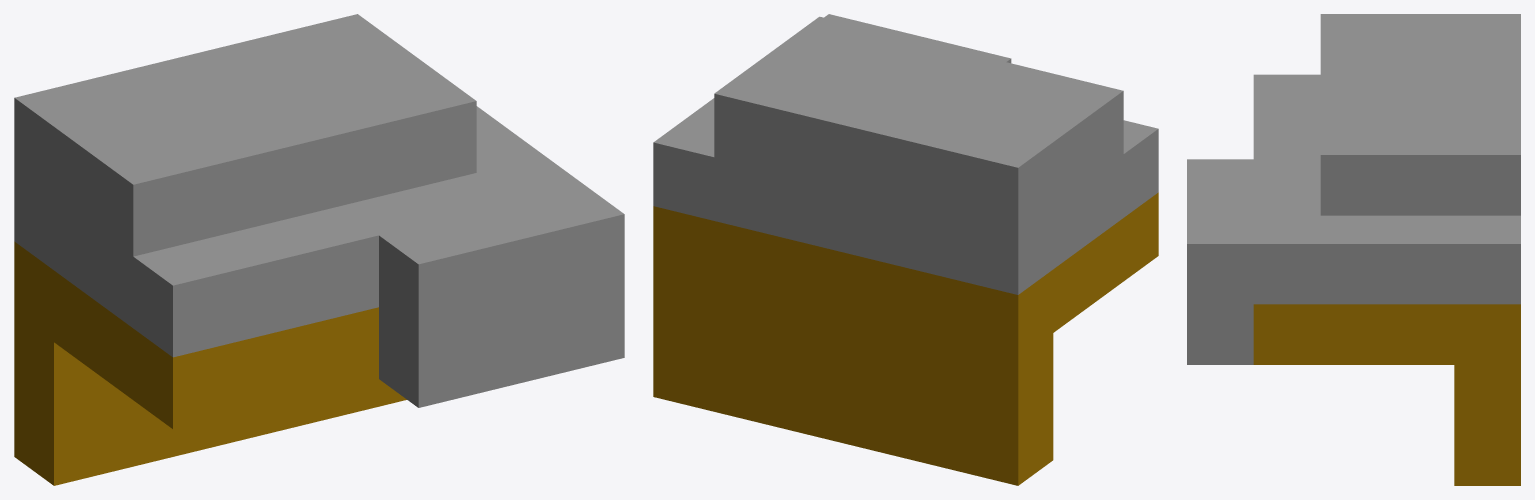
File: ModSmith-2.obj
3 views of the same model, side by side, from view 1: azimuth 30°, elevation 25°; view 2: azimuth 150°, elevation 25°; view 3: azimuth 270°, elevation 25° (orthographic). The views are drawn at different scales.
Size of the model in its own units: 0.6 by 0.5 by 0.5.
1 material, 1 textured.
